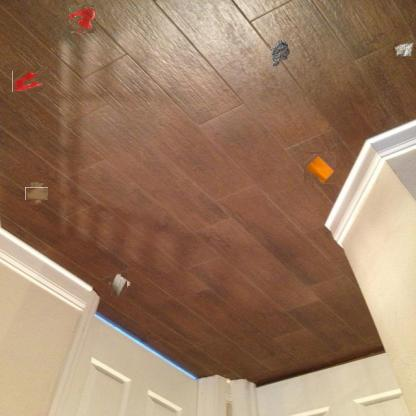dirty: (304, 152, 336, 184), (268, 37, 292, 70), (109, 274, 129, 294), (394, 41, 416, 59), (27, 184, 46, 202)
liquid: (12, 70, 43, 92), (69, 6, 95, 32)
